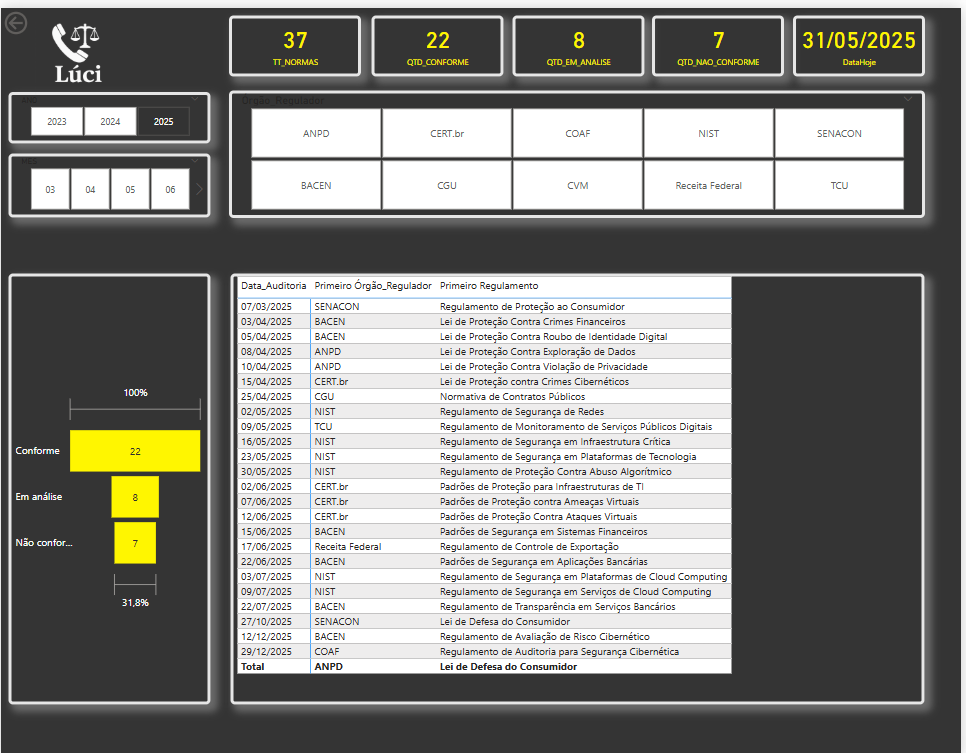

The page's visual inventory and layout, read from the dashboard file:
{"tool":"powerbi","page":{"name":"NORMAS","canvas":[1280,1000],"ordinal":1},"visuals":[{"type":"slicer","fields":{"Values":["Cumprimento_Normas.MES"]},"box":[10.4,194.3,269.5,85.7],"z":0},{"type":"slicer","fields":{"Values":["Cumprimento_Normas.ANO"]},"box":[10.4,112.8,269.5,68.9],"z":1000},{"type":"card","fields":{"Values":["2 MEDIDAS NORMAS.TT_NORMAS"]},"box":[304,9,176,81],"z":2000},{"type":"card","fields":{"Values":["2 MEDIDAS NORMAS.QTD_CONFORME"]},"box":[493,9,176,81],"z":3000},{"type":"card","fields":{"Values":["2 MEDIDAS NORMAS.QTD_EM_ANALISE"]},"box":[681,9,176,81],"z":4000},{"type":"card","fields":{"Values":["2 MEDIDAS NORMAS.QTD_NAO_CONFORME"]},"box":[868,9,176,81],"z":5000},{"type":"card","fields":{"Values":["1 MEDIDAS CONTRATOS.DataHoje"]},"box":[1056,9,176,81],"z":6000},{"type":"slicer","fields":{"Values":["Cumprimento_Normas.Órgão_Regulador"]},"box":[303.7,109.8,928.3,169.7],"z":7000},{"type":"actionButton","box":[0,0,100,40],"z":8000},{"type":"funnel","fields":{"Category":["Cumprimento_Normas.Status_Cumprimento"],"Y":["Cumprimento_Normas.Regulamento"]},"box":[10.4,353.1,269.5,574.5],"z":9000},{"type":"pivotTable","fields":{"Rows":["Cumprimento_Normas.Data_Auditoria"],"Values":["Cumprimento_Normas.Órgão_Regulador","Cumprimento_Normas.Regulamento"]},"box":[305,353.1,925.5,574.5],"z":10000},{"type":"image","box":[0,0,208.9,127.4],"z":11000}]}

Visuals, with their boxes in screenshot pixels (x1, y1, x2, y2), scaled from the page's 1280x1000 canvas onto the 966x753 screenshot:
slicer - Cumprimento_Normas.MES: left=8, top=146, right=211, bottom=211
slicer - Cumprimento_Normas.ANO: left=8, top=85, right=211, bottom=137
card - 2 MEDIDAS NORMAS.TT_NORMAS: left=229, top=7, right=362, bottom=68
card - 2 MEDIDAS NORMAS.QTD_CONFORME: left=372, top=7, right=505, bottom=68
card - 2 MEDIDAS NORMAS.QTD_EM_ANALISE: left=514, top=7, right=647, bottom=68
card - 2 MEDIDAS NORMAS.QTD_NAO_CONFORME: left=655, top=7, right=788, bottom=68
card - 1 MEDIDAS CONTRATOS.DataHoje: left=797, top=7, right=930, bottom=68
slicer - Cumprimento_Normas.Órgão_Regulador: left=229, top=83, right=930, bottom=210
actionButton: left=0, top=0, right=75, bottom=30
funnel - Cumprimento_Normas.Status_Cumprimento x Cumprimento_Normas.Regulamento: left=8, top=266, right=211, bottom=698
pivotTable - Cumprimento_Normas.Data_Auditoria x Cumprimento_Normas.Órgão_Regulador: left=230, top=266, right=929, bottom=698
image: left=0, top=0, right=158, bottom=96
